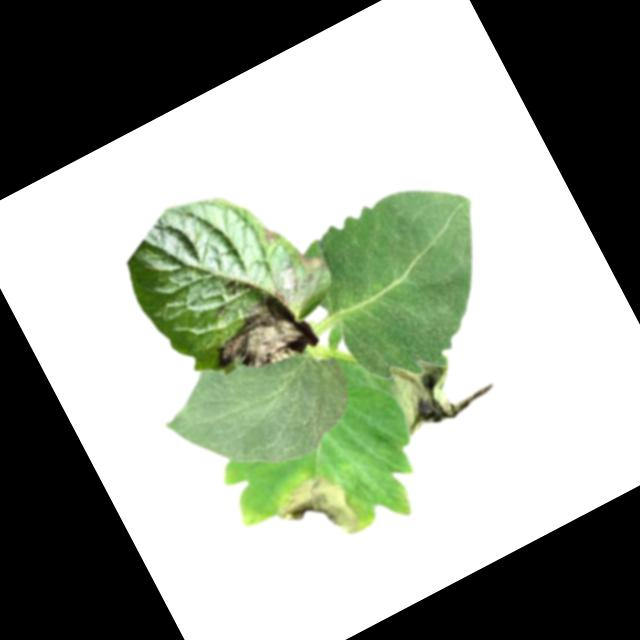Late_blight: (196, 279, 323, 391), (379, 330, 501, 444), (267, 457, 373, 563), (294, 240, 332, 282), (263, 225, 286, 248)
healthy: (288, 161, 533, 404), (148, 310, 370, 507)
